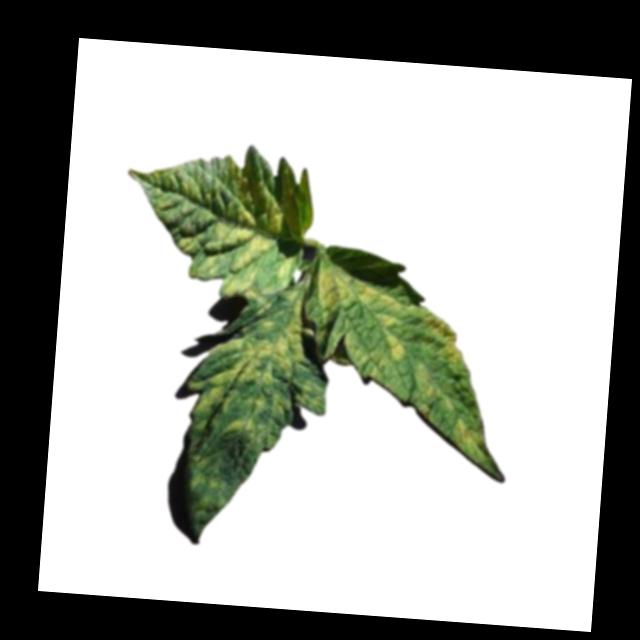Leaf_Mold: (304, 245, 521, 484), (174, 287, 323, 555), (124, 137, 317, 299)
